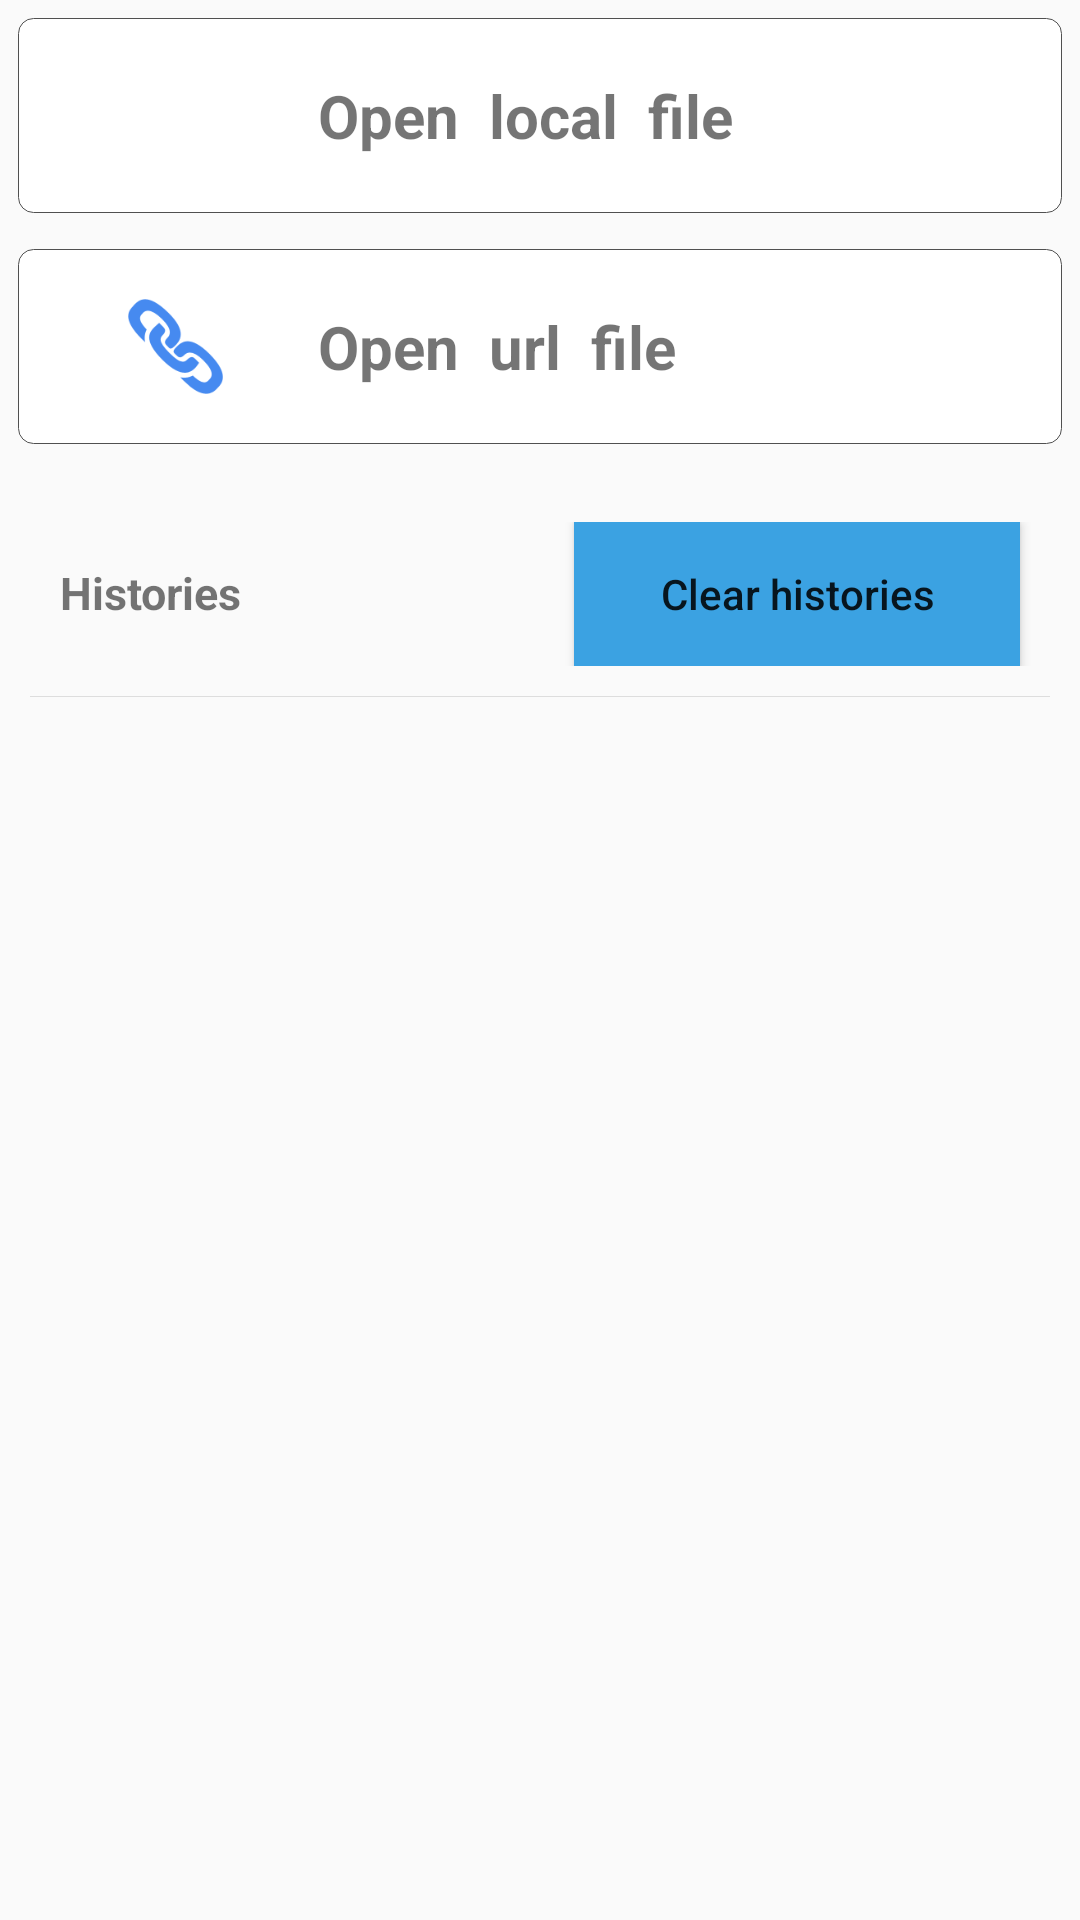

Named icons in this screenshot (1080px×1920px) and their bounding boxes, (x1, y1, x2, y2):
link: (128, 299, 223, 394)
